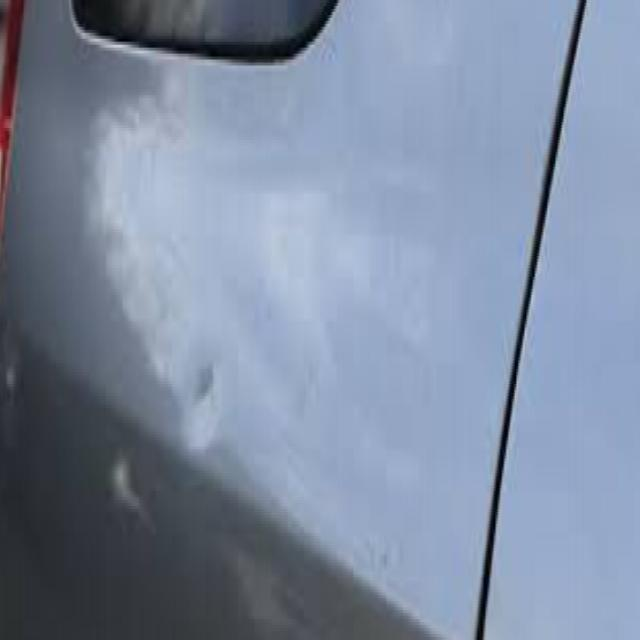dents: (194, 349, 235, 473)
